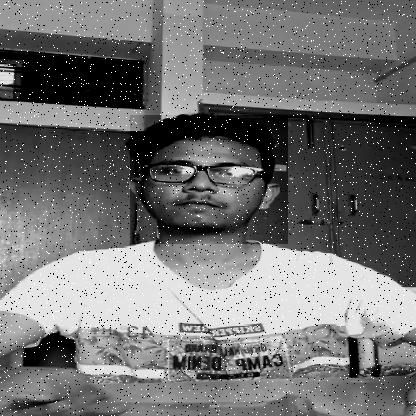Normal: (130, 115, 288, 244)
